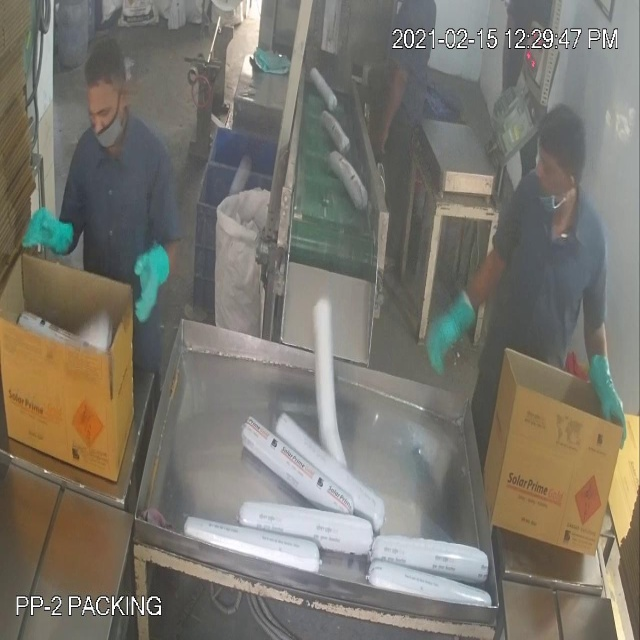Guantes: (421, 277, 489, 392), (582, 333, 634, 448), (128, 229, 184, 326), (19, 199, 92, 273)
Sin_guantes: (363, 49, 411, 169)
